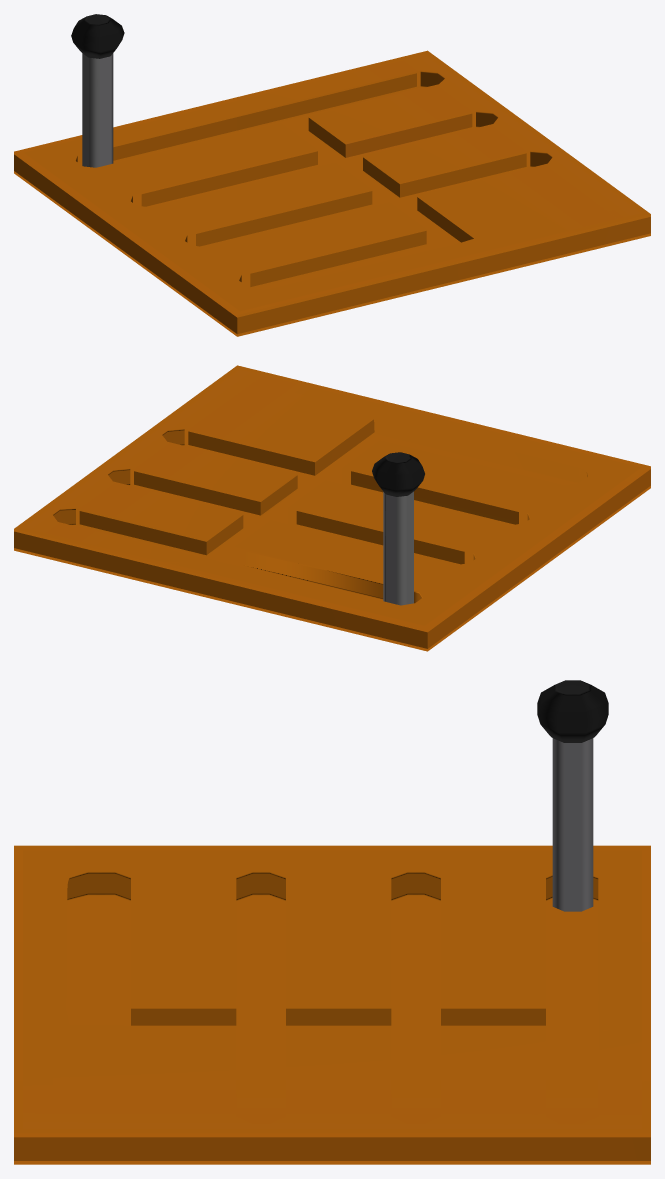
The model's file is MarchaCarro.fbx.
3 views of the same model, one above another, from view 1: azimuth 30°, elevation 25°; view 2: azimuth 150°, elevation 25°; view 3: azimuth 270°, elevation 25° (orthographic). The views are drawn at different scales.
Visible parts, largest first — view 1: MarchaCarro; view 2: MarchaCarro; view 3: MarchaCarro.
Boxes of the visible parts, x1,y1,x2,y2 form: MarchaCarro: [14, 14, 650, 336]; MarchaCarro: [14, 365, 650, 651]; MarchaCarro: [14, 680, 650, 1164].
Size of the model in its own units: 15.13 by 5.67 by 14.14.
